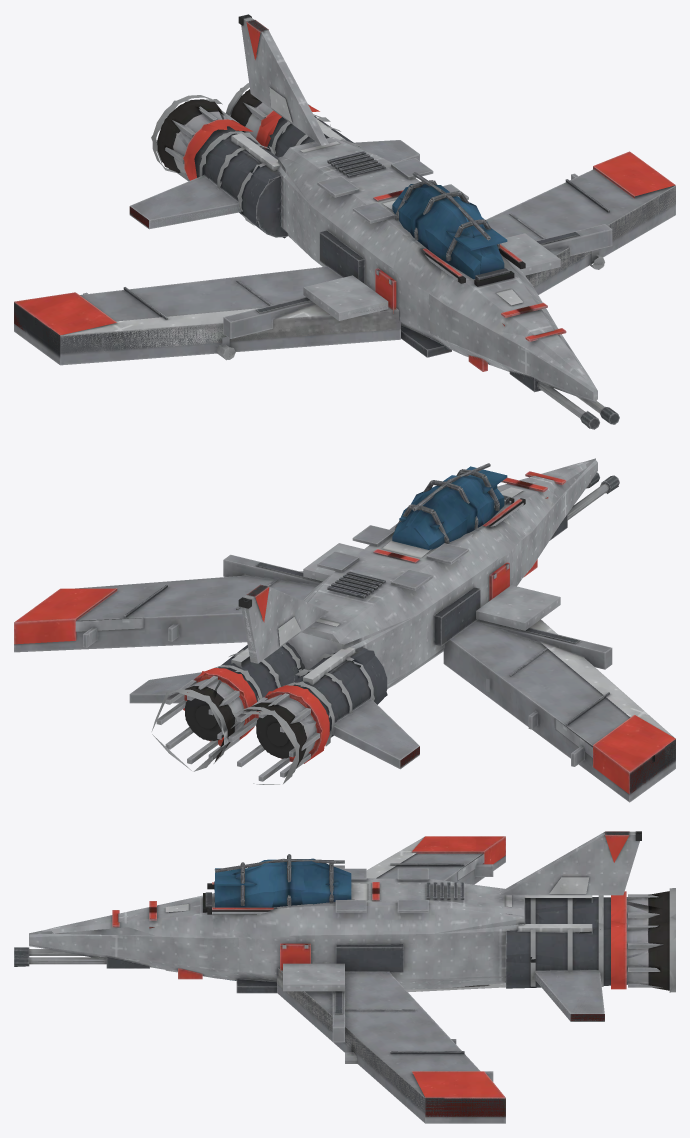
Rendered from sd_ship_sahin.glb.
3 renders of one model, top to bottom at view 1: azimuth 30°, elevation 25°; view 2: azimuth 150°, elevation 25°; view 3: azimuth 270°, elevation 25°, orthographic. The views are drawn at different scales.
Visible parts, largest first — view 1: LOD0_body, LOD1_body; view 2: LOD0_body, LOD1_body; view 3: LOD0_body, LOD1_body.
Boxes of the visible parts, bbox=[...] form: LOD0_body: bbox=[14, 14, 675, 429]; LOD1_body: bbox=[14, 55, 675, 428]; LOD0_body: bbox=[14, 460, 675, 802]; LOD1_body: bbox=[14, 458, 675, 801]; LOD0_body: bbox=[14, 831, 675, 1123]; LOD1_body: bbox=[14, 837, 675, 1123].
Size of the model in its own units: 0.9346 by 0.2664 by 1.
Materials: 1 (1 with a texture image).
